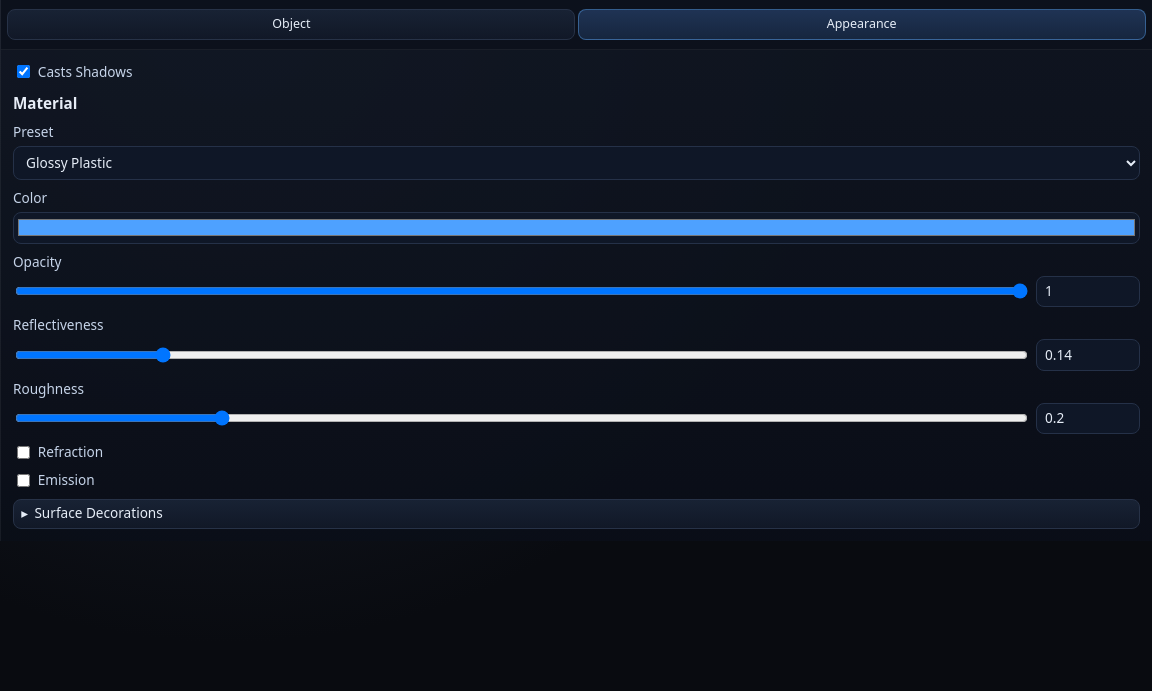
Test: RangeField numeric entry › groups grid and contour controls in one Surface Decorations dropdown
Click the button with class "collapsible__header" at (99, 513), box [13,499,1140,528]
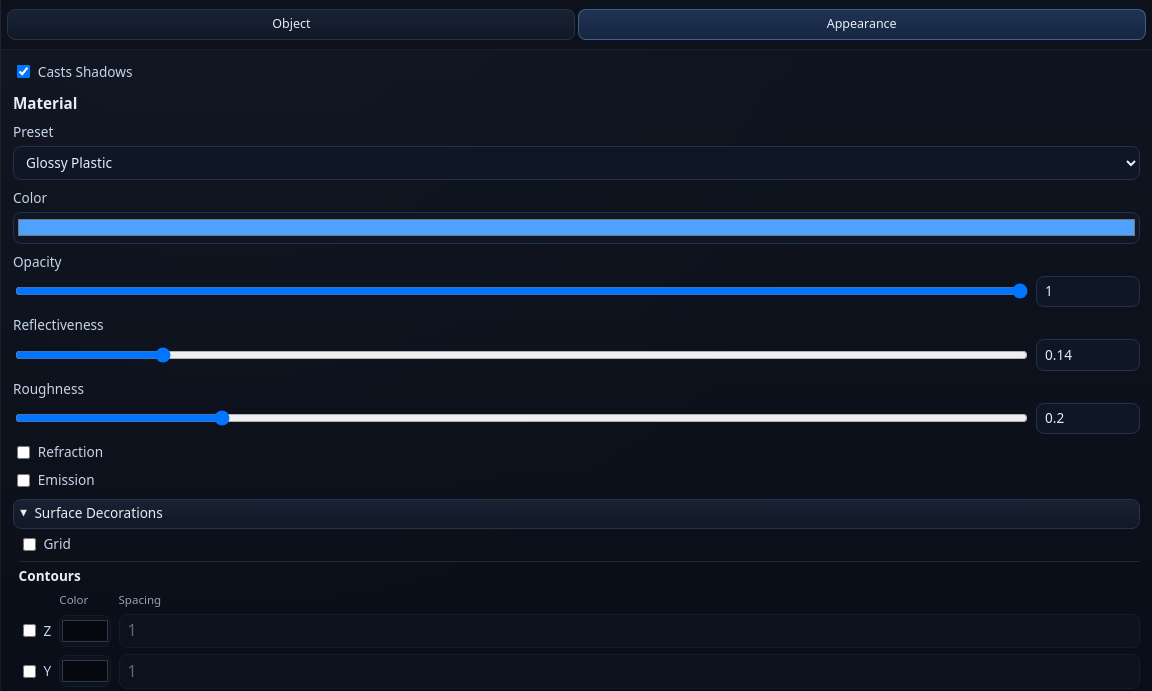
Check: the button with class "collapsible__header" is expanded, box [13,499,1140,528]
Click the checkbox labelled "Grid" at (29, 544), box [23,538,36,551]
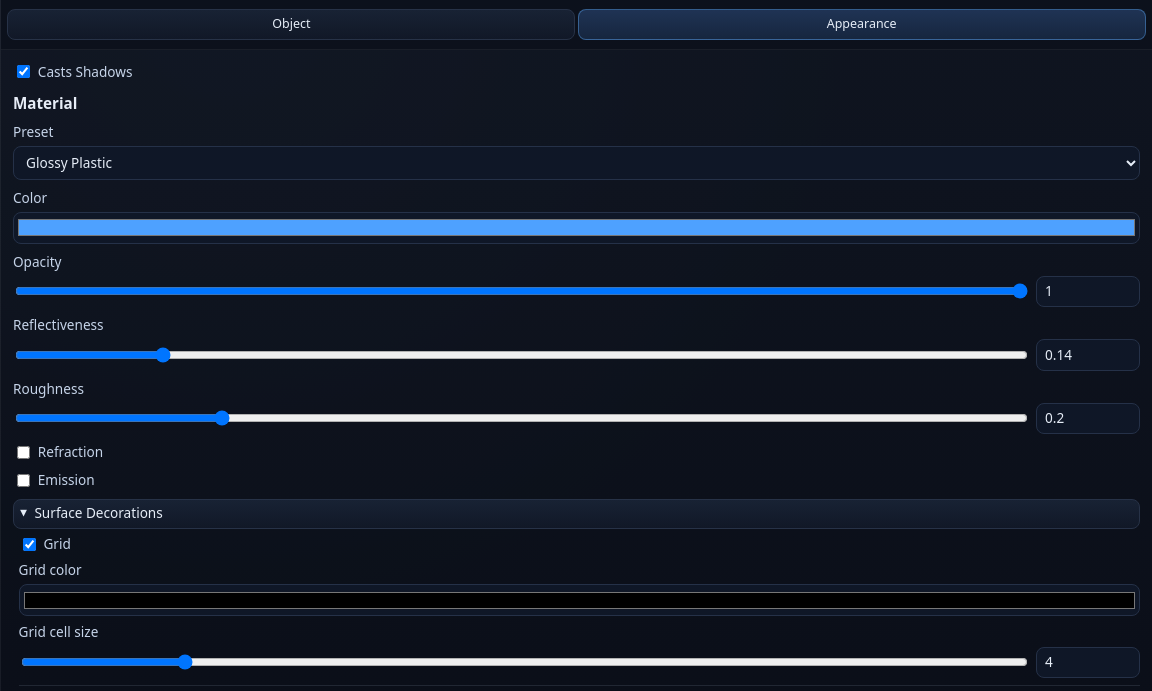
Check: the text "Grid color" is shown, box [19,561,1140,616]
Check: the text "Grid cell size" is shown, box [19,622,98,641]
